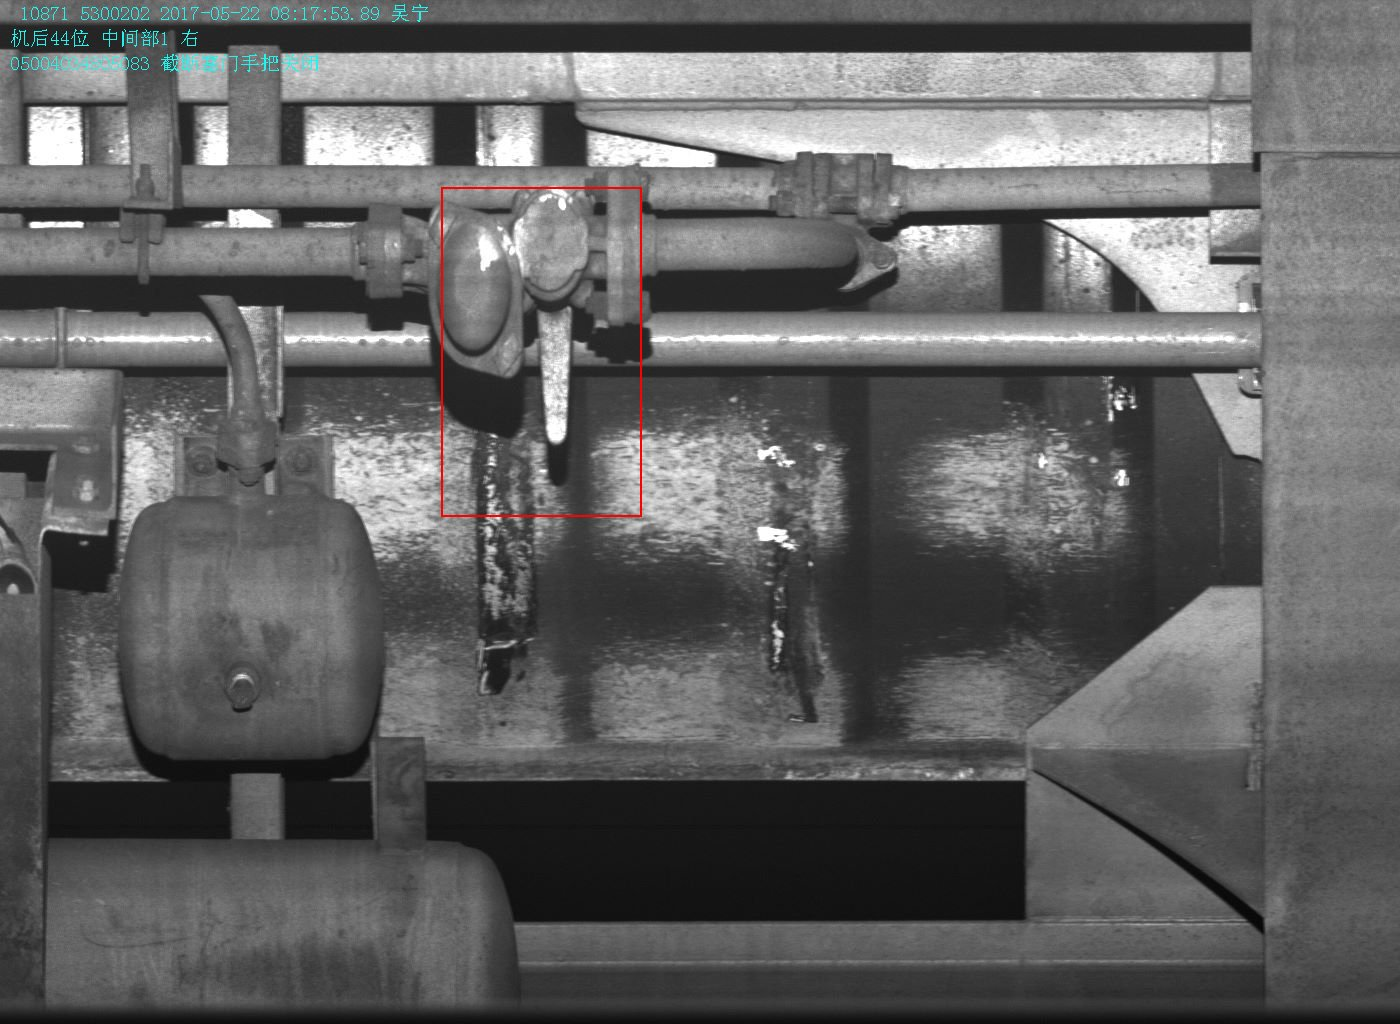truncated plug door handle: (507, 187, 596, 445)
